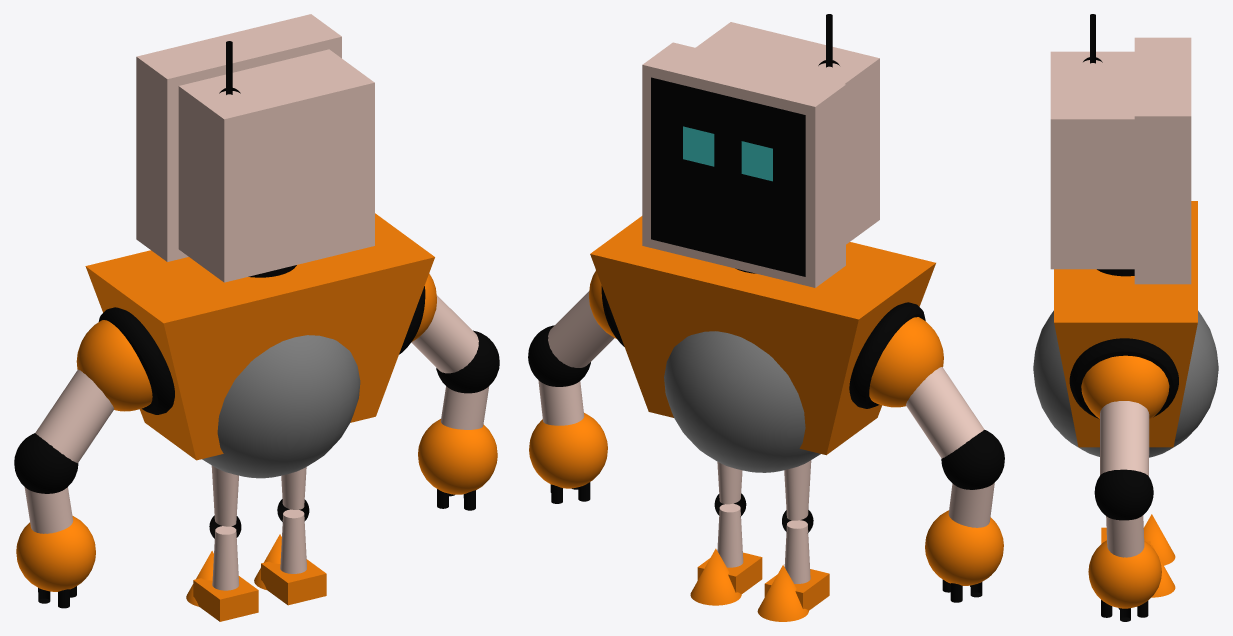
Rendered from EzikBot3.fbx.
The picture shows the model from 3 angles, left to right: view 1: azimuth 30°, elevation 25°; view 2: azimuth 150°, elevation 25°; view 3: azimuth 270°, elevation 25°; orthographic projection. The views are drawn at different scales.
Parts seen in each view (by area): view 1: Gövde, Kafa, Sağ Alt Kol, Sol Üst Kol, Sol Alt Kol, Sağ Üst Kol, Sağ Ayak, Sol Ayak, Sol Üst Bacak, Sol Alt Bacak, Sağ Alt Bacak, Sağ Üst Bacak; view 2: Gövde, Kafa, Sağ Alt Kol, Sol Üst Kol, Sol Alt Kol, Sağ Üst Kol, Sağ Ayak, Sol Ayak, Sol Üst Bacak, Sağ Alt Bacak, Sol Alt Bacak, Sağ Üst Bacak; view 3: Kafa, Gövde, Sağ Üst Kol, Sağ Alt Kol, Sol Ayak, Sağ Ayak.
Boxes of the visible parts, <box> form: Gövde: <box>76,213,436,478</box>; Kafa: <box>136,14,374,282</box>; Sağ Alt Kol: <box>418,386,497,510</box>; Sol Üst Kol: <box>14,369,114,493</box>; Sol Alt Kol: <box>16,487,95,608</box>; Sağ Üst Kol: <box>411,295,499,393</box>; Sağ Ayak: <box>254,534,326,605</box>; Sol Ayak: <box>186,551,258,621</box>; Sol Üst Bacak: <box>209,465,241,538</box>; Sol Alt Bacak: <box>212,526,239,590</box>; Sağ Alt Bacak: <box>280,509,306,573</box>; Sağ Üst Bacak: <box>277,467,309,522</box>; Gövde: <box>589,216,943,472</box>; Kafa: <box>642,14,879,287</box>; Sağ Alt Kol: <box>529,380,607,503</box>; Sol Üst Kol: <box>906,367,1004,489</box>; Sol Alt Kol: <box>925,482,1003,602</box>; Sağ Üst Kol: <box>528,291,614,386</box>; Sağ Ayak: <box>690,548,762,605</box>; Sol Ayak: <box>757,565,829,621</box>; Sol Üst Bacak: <box>782,460,813,533</box>; Sağ Alt Bacak: <box>717,503,743,567</box>; Sol Alt Bacak: <box>784,520,810,583</box>; Sağ Üst Bacak: <box>714,462,746,516</box>; Kafa: <box>1050,14,1191,284</box>; Gövde: <box>1033,201,1218,457</box>; Sağ Üst Kol: <box>1094,401,1153,520</box>; Sağ Alt Kol: <box>1088,515,1161,621</box>; Sol Ayak: <box>1101,514,1175,565</box>; Sağ Ayak: <box>1151,544,1175,597</box>.
Size of the model in its own units: 5.44 by 6.37 by 2.
